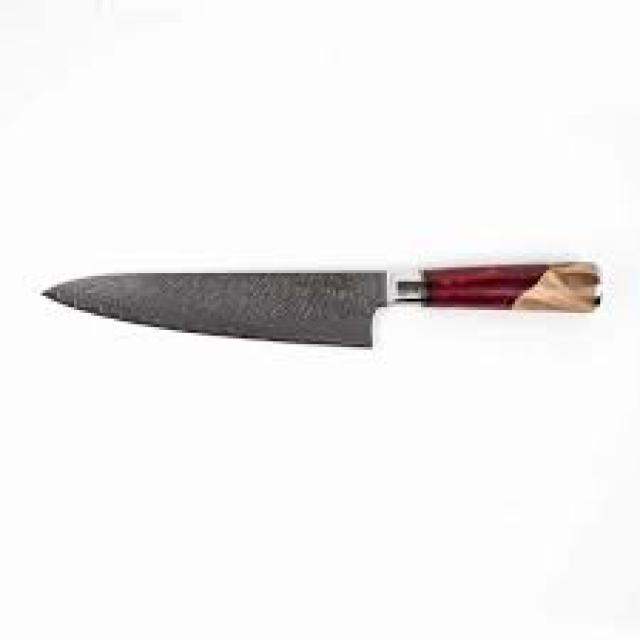Knife: (40, 259, 603, 347)
